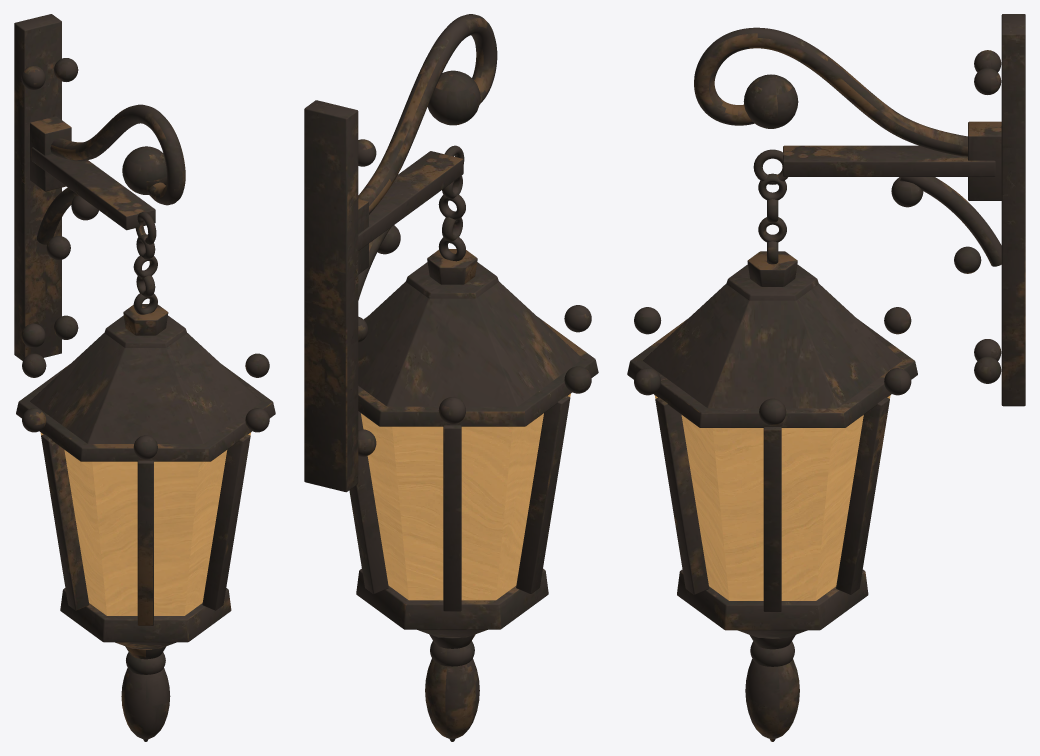
The model's file is lantern.glb.
The picture shows the model from 3 angles, left to right: view 1: azimuth 30°, elevation 25°; view 2: azimuth 150°, elevation 25°; view 3: azimuth 270°, elevation 25°; orthographic projection. The views are drawn at different scales.
Parts seen in each view (by area): view 1: Lantern_iron, Lantern_glass; view 2: Lantern_iron, Lantern_glass; view 3: Lantern_iron, Lantern_glass.
Boxes of the visible parts, x1,y1,x2,y2 form: Lantern_iron: [14, 14, 275, 741]; Lantern_glass: [40, 432, 250, 615]; Lantern_iron: [304, 14, 598, 741]; Lantern_glass: [361, 393, 570, 600]; Lantern_iron: [627, 14, 1025, 741]; Lantern_glass: [654, 395, 890, 600].
Bounding box in the file's own units: 0.8999 × 2.25 × 1.13.
2 materials, 2 textured.
